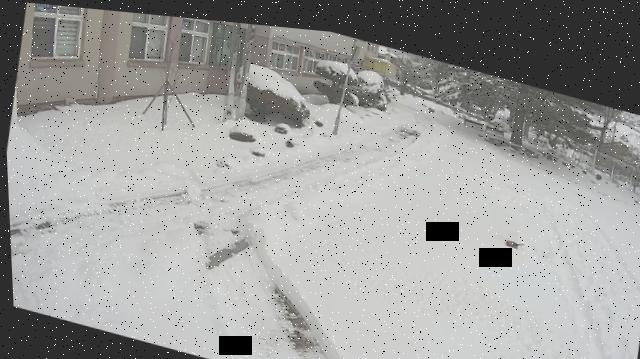fire: (505, 227, 512, 234)
